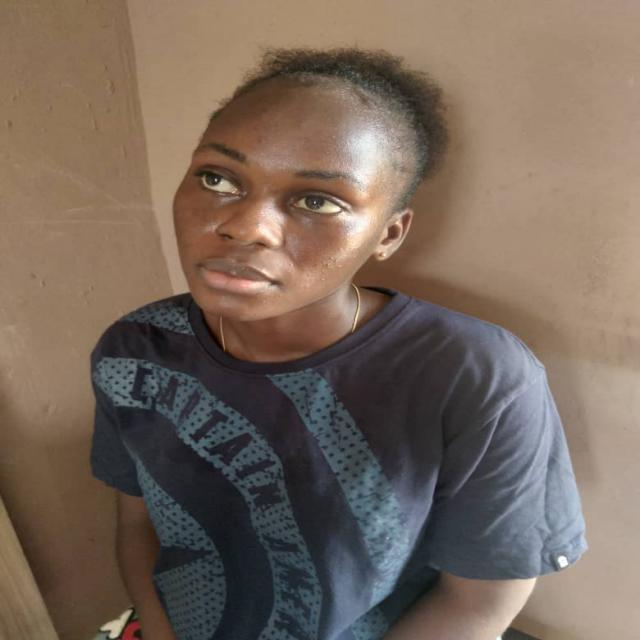sad: (164, 49, 441, 331)
